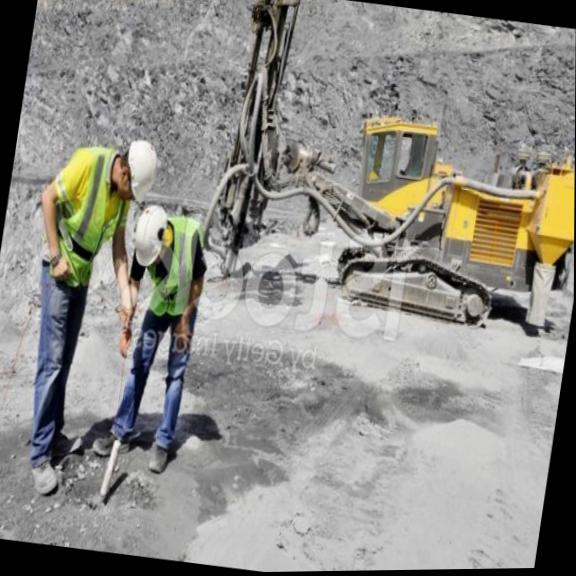safety_vest: (43, 142, 121, 292)
